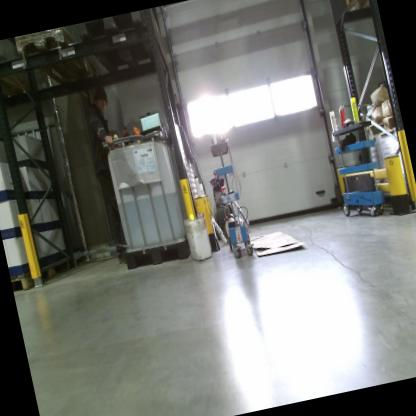pallet: (75, 7, 166, 83), (12, 23, 103, 94), (10, 253, 79, 296), (0, 35, 32, 97), (340, 0, 376, 24)
